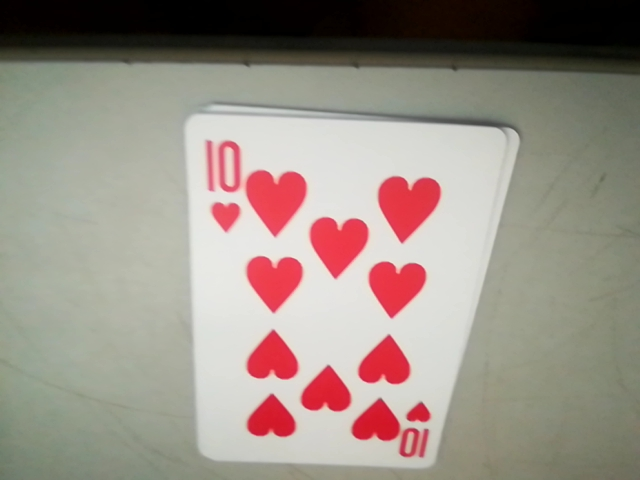hx 10: (200, 137, 243, 235), (397, 395, 432, 462)
